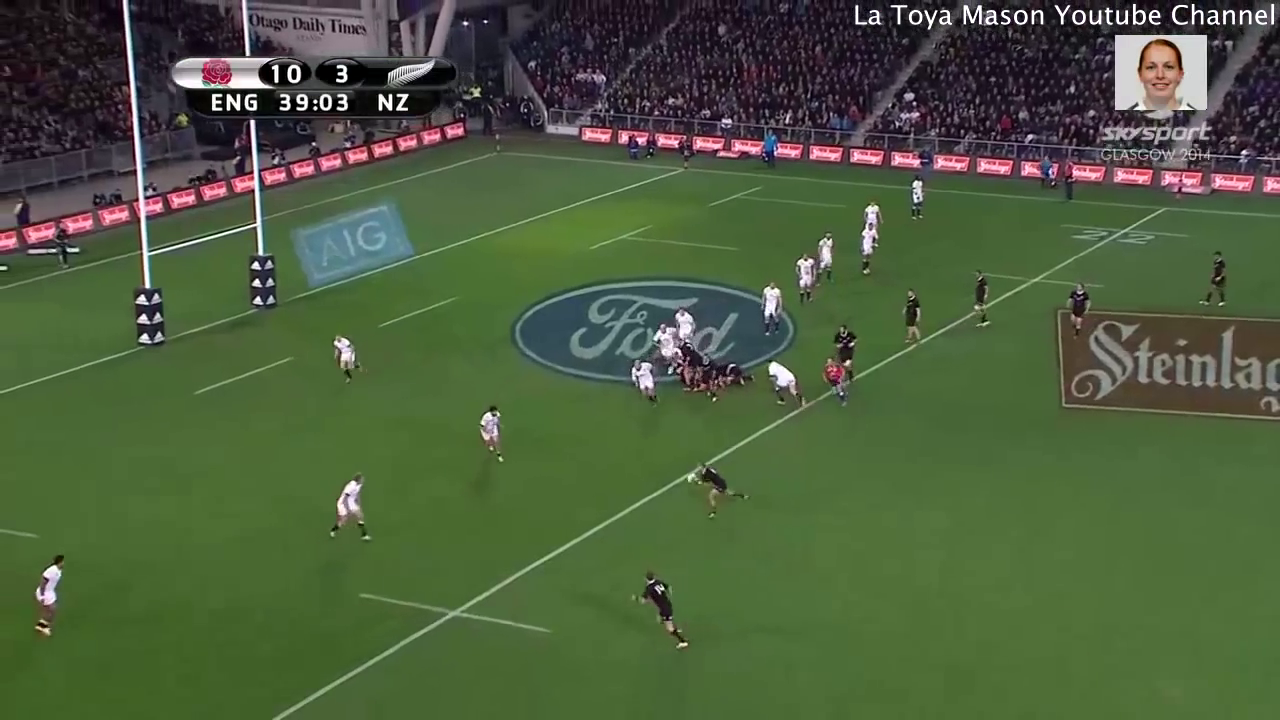corner_flag: (678, 143, 692, 174), (492, 131, 503, 160)
player: (625, 567, 693, 653), (28, 548, 73, 644), (686, 460, 750, 520), (329, 468, 375, 548), (758, 356, 809, 411), (475, 404, 513, 472), (325, 332, 369, 390), (1197, 244, 1232, 310), (625, 356, 666, 412), (677, 343, 716, 400), (966, 268, 997, 330), (1065, 279, 1093, 340), (818, 357, 853, 405), (853, 222, 882, 277), (793, 252, 820, 309), (896, 288, 921, 348), (902, 168, 929, 222), (758, 280, 786, 332), (836, 321, 857, 384), (814, 231, 837, 286), (669, 300, 699, 342), (857, 199, 884, 226), (650, 323, 671, 356)
post: (125, 125, 281, 353)
ruck: (671, 353, 754, 392)
